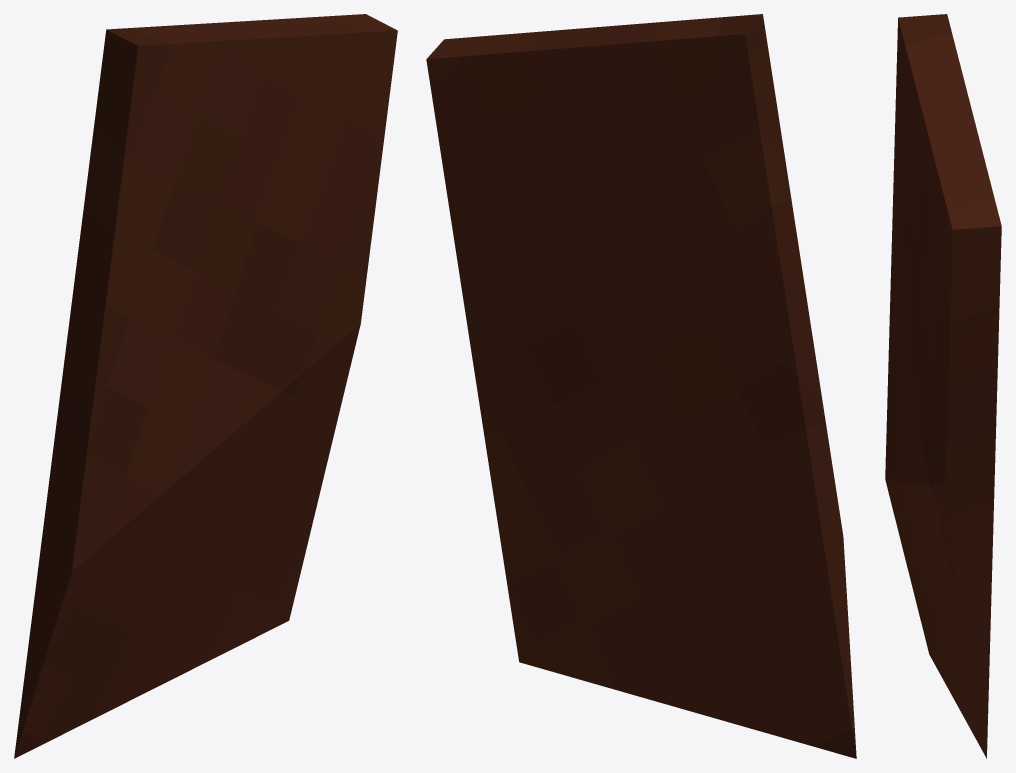
File: H_GingerbreadPieces.fbx
The picture shows the model from 3 angles, left to right: view 1: azimuth 30°, elevation 25°; view 2: azimuth 150°, elevation 25°; view 3: azimuth 270°, elevation 25°; orthographic projection. The views are drawn at different scales.
Visible parts, largest first — view 1: Wall; view 2: Wall; view 3: Wall.
Boxes of the visible parts, x1,y1,x2,y2 form: Wall: (14, 14, 397, 758); Wall: (426, 14, 856, 758); Wall: (885, 14, 1001, 758).
Bounding box in the file's own units: 14.06 × 23.71 × 3.63.
